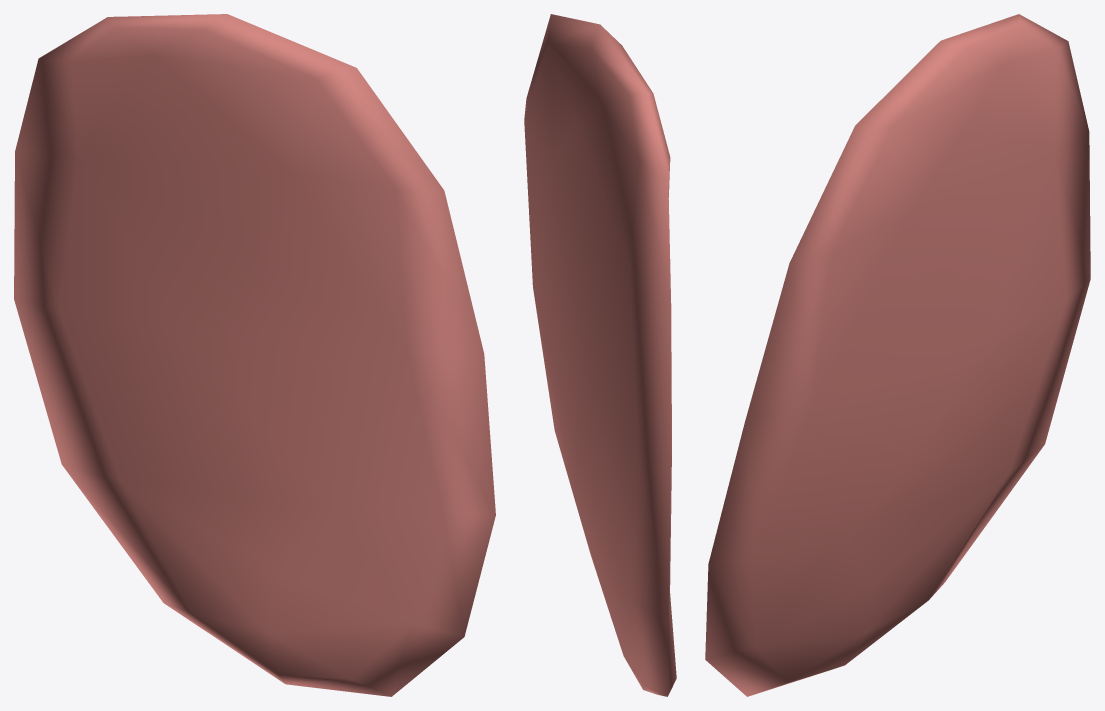
The picture shows the model from 3 angles, left to right: view 1: azimuth 30°, elevation 25°; view 2: azimuth 150°, elevation 25°; view 3: azimuth 270°, elevation 25°; orthographic projection. The views are drawn at different scales.
Parts seen in each view (by area): view 1: ZA_4c71e1ee4eb404dc; view 2: ZA_4c71e1ee4eb404dc; view 3: ZA_4c71e1ee4eb404dc.
Part boxes in pixels (x1,y1,x2,y2): ZA_4c71e1ee4eb404dc: (14,14,495,696); ZA_4c71e1ee4eb404dc: (524,14,676,696); ZA_4c71e1ee4eb404dc: (705,14,1090,696).
Bounding box in the file's own units: 0.00377 × 0.00767 × 0.00428.
